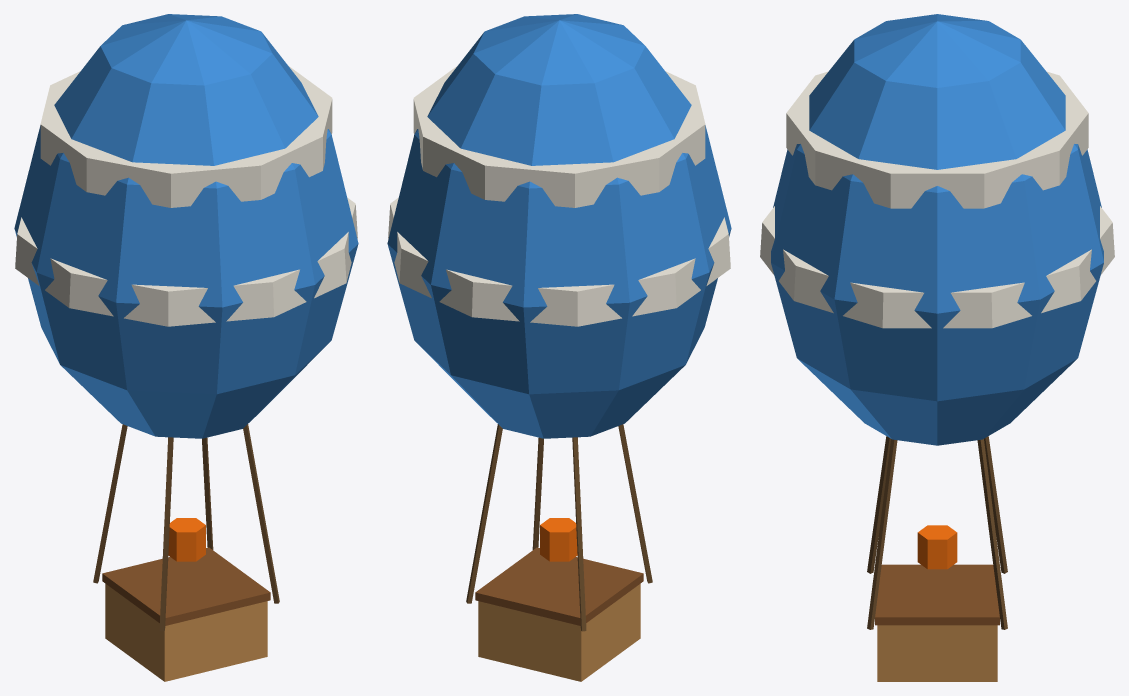
The model's file is sky_balloon_blue.glb.
The picture shows the model from 3 angles, left to right: view 1: azimuth 30°, elevation 25°; view 2: azimuth 150°, elevation 25°; view 3: azimuth 270°, elevation 25°; orthographic projection.
Visible parts, largest first — view 1: balloon_blue; view 2: balloon_blue; view 3: balloon_blue.
Boxes of the visible parts, x1,y1,x2,y2 form: balloon_blue: (14,14,358,681); balloon_blue: (387,14,731,681); balloon_blue: (760,14,1114,681).
Bounding box in the file's own units: 3.2 × 6.4 × 3.24.
